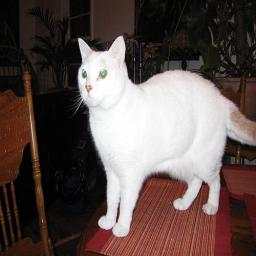catnose: (85, 84, 93, 94)
